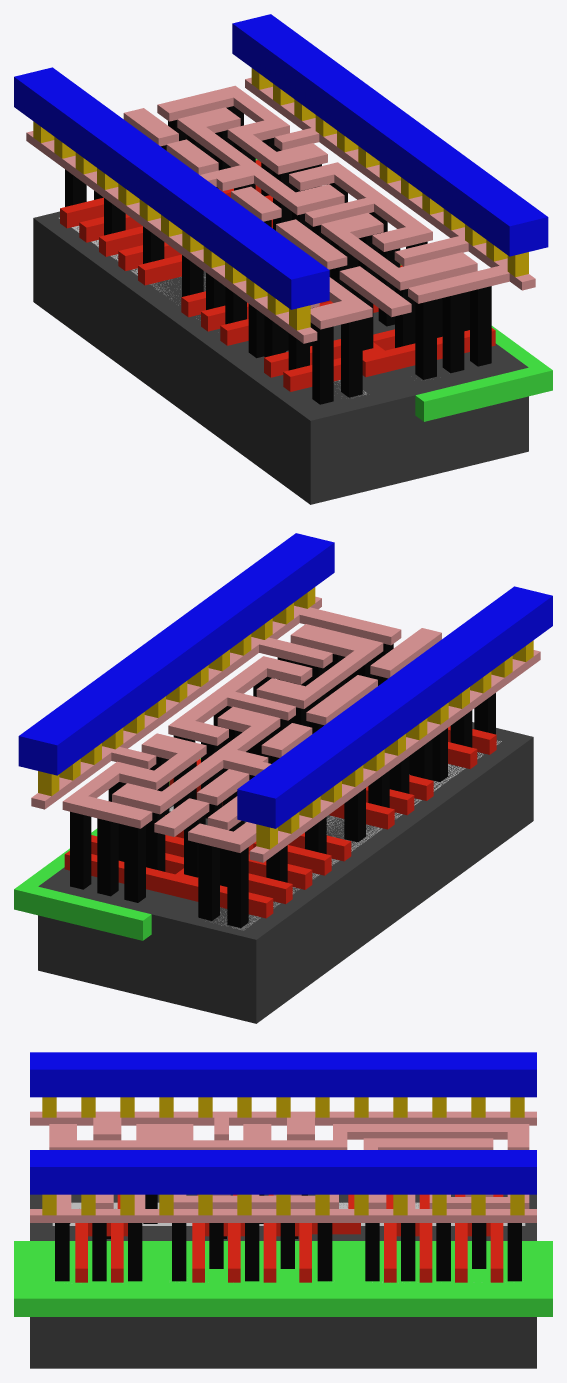
File: sky130_fd_sc_hd__o32ai_2.obj
The picture shows the model from 3 angles, top to bottom: view 1: azimuth 30°, elevation 25°; view 2: azimuth 150°, elevation 25°; view 3: azimuth 270°, elevation 25°; orthographic projection. The views are drawn at different scales.
Parts seen in each view (by area): view 1: subs, metal1, li, licon, poly, mcon, nwell; view 2: subs, metal1, li, licon, poly, mcon, nwell, diff; view 3: metal1, nwell, subs, li, licon, poly, mcon, diff.
Boxes of the visible parts, x1,y1,x2,y2 form: subs: [33, 211, 528, 504]; metal1: [14, 14, 548, 309]; li: [26, 77, 535, 343]; licon: [65, 106, 491, 404]; poly: [60, 160, 495, 391]; mcon: [33, 68, 528, 330]; nwell: [255, 158, 552, 421]; subs: [38, 722, 533, 1023]; metal1: [18, 533, 552, 828]; li: [31, 596, 540, 862]; licon: [70, 643, 495, 927]; poly: [64, 726, 496, 918]; mcon: [38, 587, 533, 849]; nwell: [14, 758, 200, 940]; diff: [215, 740, 501, 930]; metal1: [30, 1052, 536, 1194]; nwell: [14, 1241, 552, 1316]; subs: [30, 1194, 536, 1368]; li: [30, 1111, 536, 1222]; licon: [55, 1194, 521, 1281]; poly: [75, 1194, 503, 1282]; mcon: [42, 1097, 524, 1215]; diff: [52, 1202, 525, 1225].
Size of the model in its own units: 3.2 by 2.74 by 6.36.
